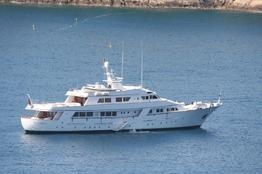yacht: (20, 60, 224, 132)
